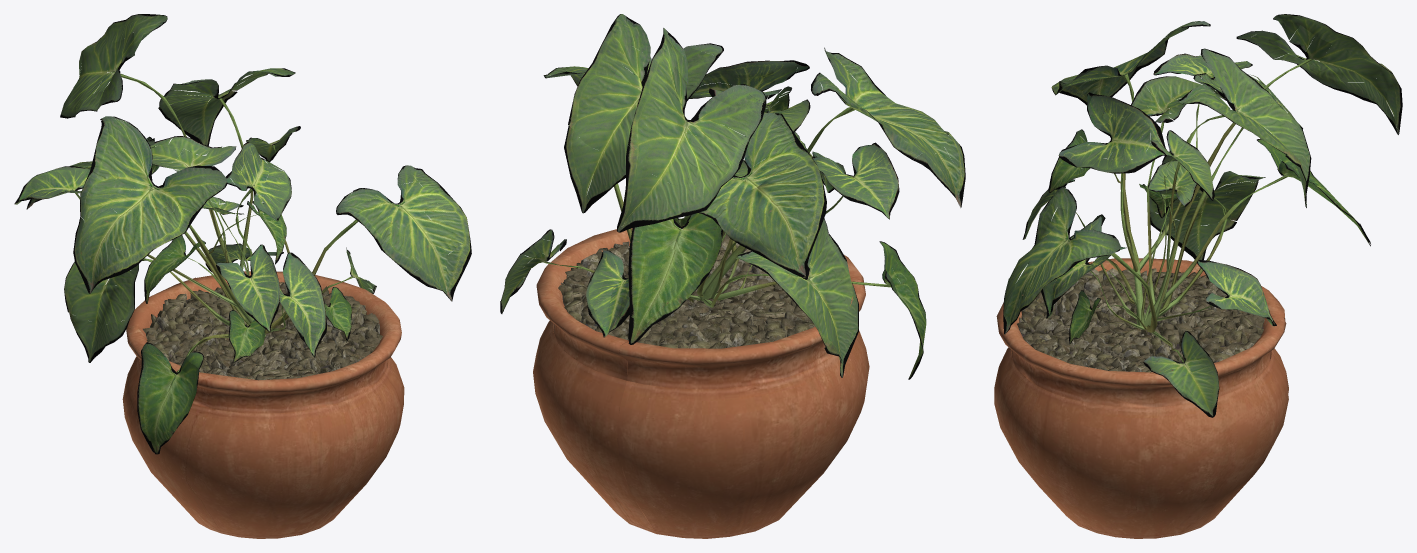
File: plant-leafy.glb
3 views of the same model, side by side, from view 1: azimuth 30°, elevation 25°; view 2: azimuth 150°, elevation 25°; view 3: azimuth 270°, elevation 25° (orthographic). The views are drawn at different scales.
Visible parts, largest first — view 1: plant-leafy; view 2: plant-leafy; view 3: plant-leafy.
Boxes of the visible parts, box(x1,y1,x2,y2) form: plant-leafy: box(14, 14, 471, 538); plant-leafy: box(500, 14, 965, 538); plant-leafy: box(994, 14, 1402, 538).
Size of the model in its own units: 0.7008 by 0.8416 by 0.6564.
2 materials, 2 textured.
